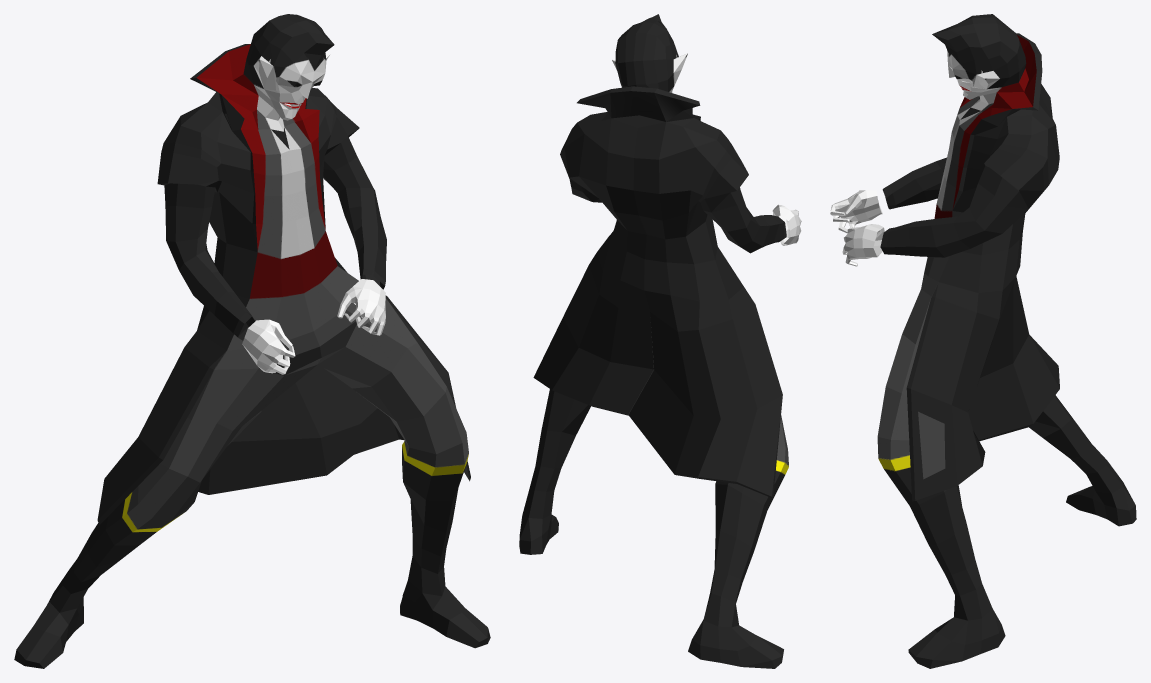
File: VampireAttack(8).obj
3 views of the same model, side by side, from view 1: azimuth 30°, elevation 25°; view 2: azimuth 150°, elevation 25°; view 3: azimuth 270°, elevation 25° (orthographic). The views are drawn at different scales.
Parts seen in each view (by area): view 1: Plane002; view 2: Plane002; view 3: Plane002.
Part boxes in pixels (left/top/right/bottom): Plane002: left=14, top=14, right=490, bottom=668; Plane002: left=519, top=14, right=801, bottom=668; Plane002: left=830, top=14, right=1136, bottom=668.
Size of the model in its own units: 189 by 303 by 146.
